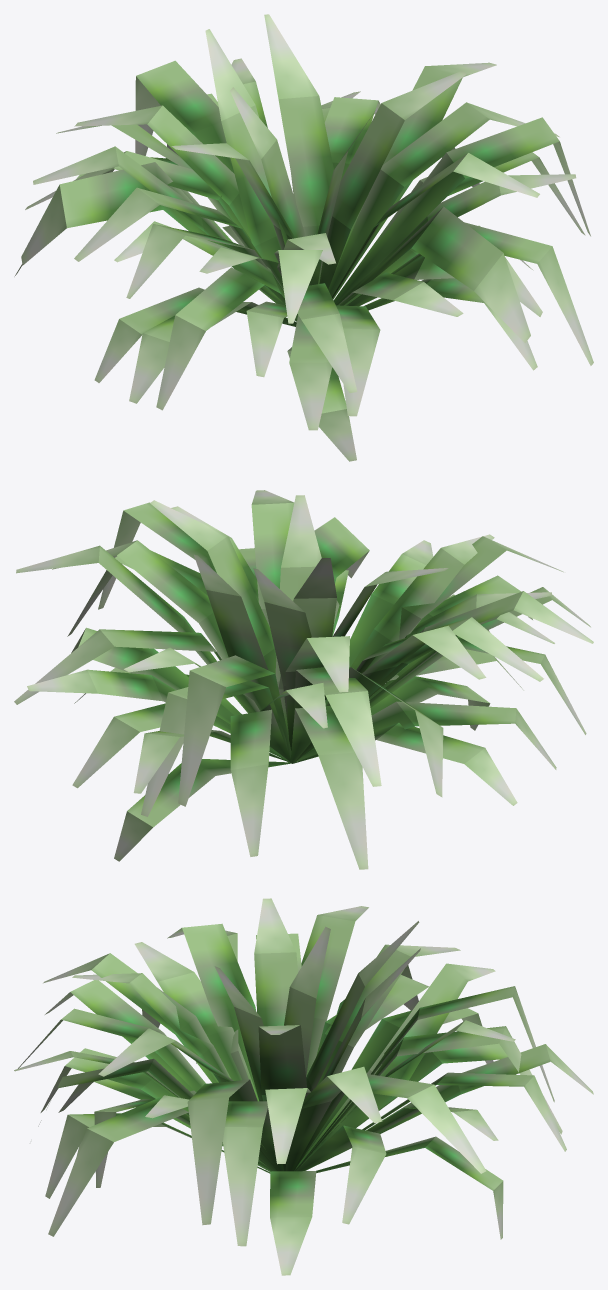
File: Poly_Weed_Plant_01_Snow.obj
The picture shows the model from 3 angles, top to bottom: view 1: azimuth 30°, elevation 25°; view 2: azimuth 150°, elevation 25°; view 3: azimuth 270°, elevation 25°; orthographic projection. The views are drawn at different scales.
Parts seen in each view (by area): view 1: Plane.001, Plane.002, Plane.003; view 2: Plane.002, Plane.001, Plane.003; view 3: Plane.002, Plane.001, Plane.003.
Boxes of the visible parts, left/top/right/bottom form: Plane.001: left=25, top=14, right=576, bottom=416; Plane.002: left=14, top=60, right=593, bottom=430; Plane.003: left=56, top=58, right=542, bottom=461; Plane.002: left=67, top=490, right=593, bottom=869; Plane.001: left=14, top=500, right=551, bottom=805; Plane.003: left=27, top=534, right=590, bottom=861; Plane.002: left=38, top=923, right=562, bottom=1246; Plane.001: left=40, top=898, right=486, bottom=1275; Plane.003: left=14, top=930, right=593, bottom=1239.
Size of the model in its own units: 1.03 by 0.5772 by 1.11.
1 material, 1 textured.
